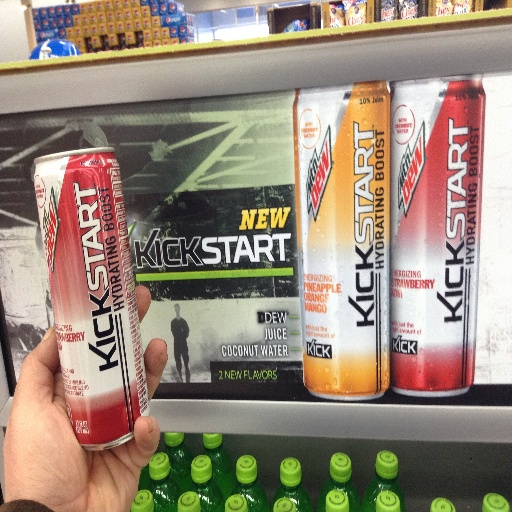hand: (5, 284, 167, 510)
